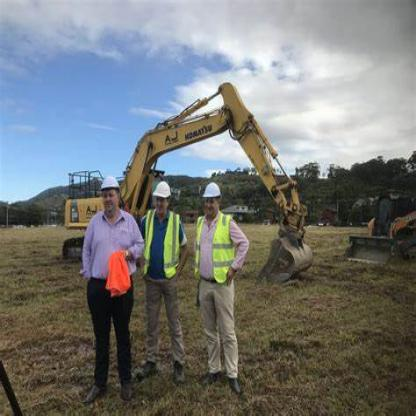person: (75, 165, 141, 403), (186, 172, 256, 388), (138, 172, 187, 386)
